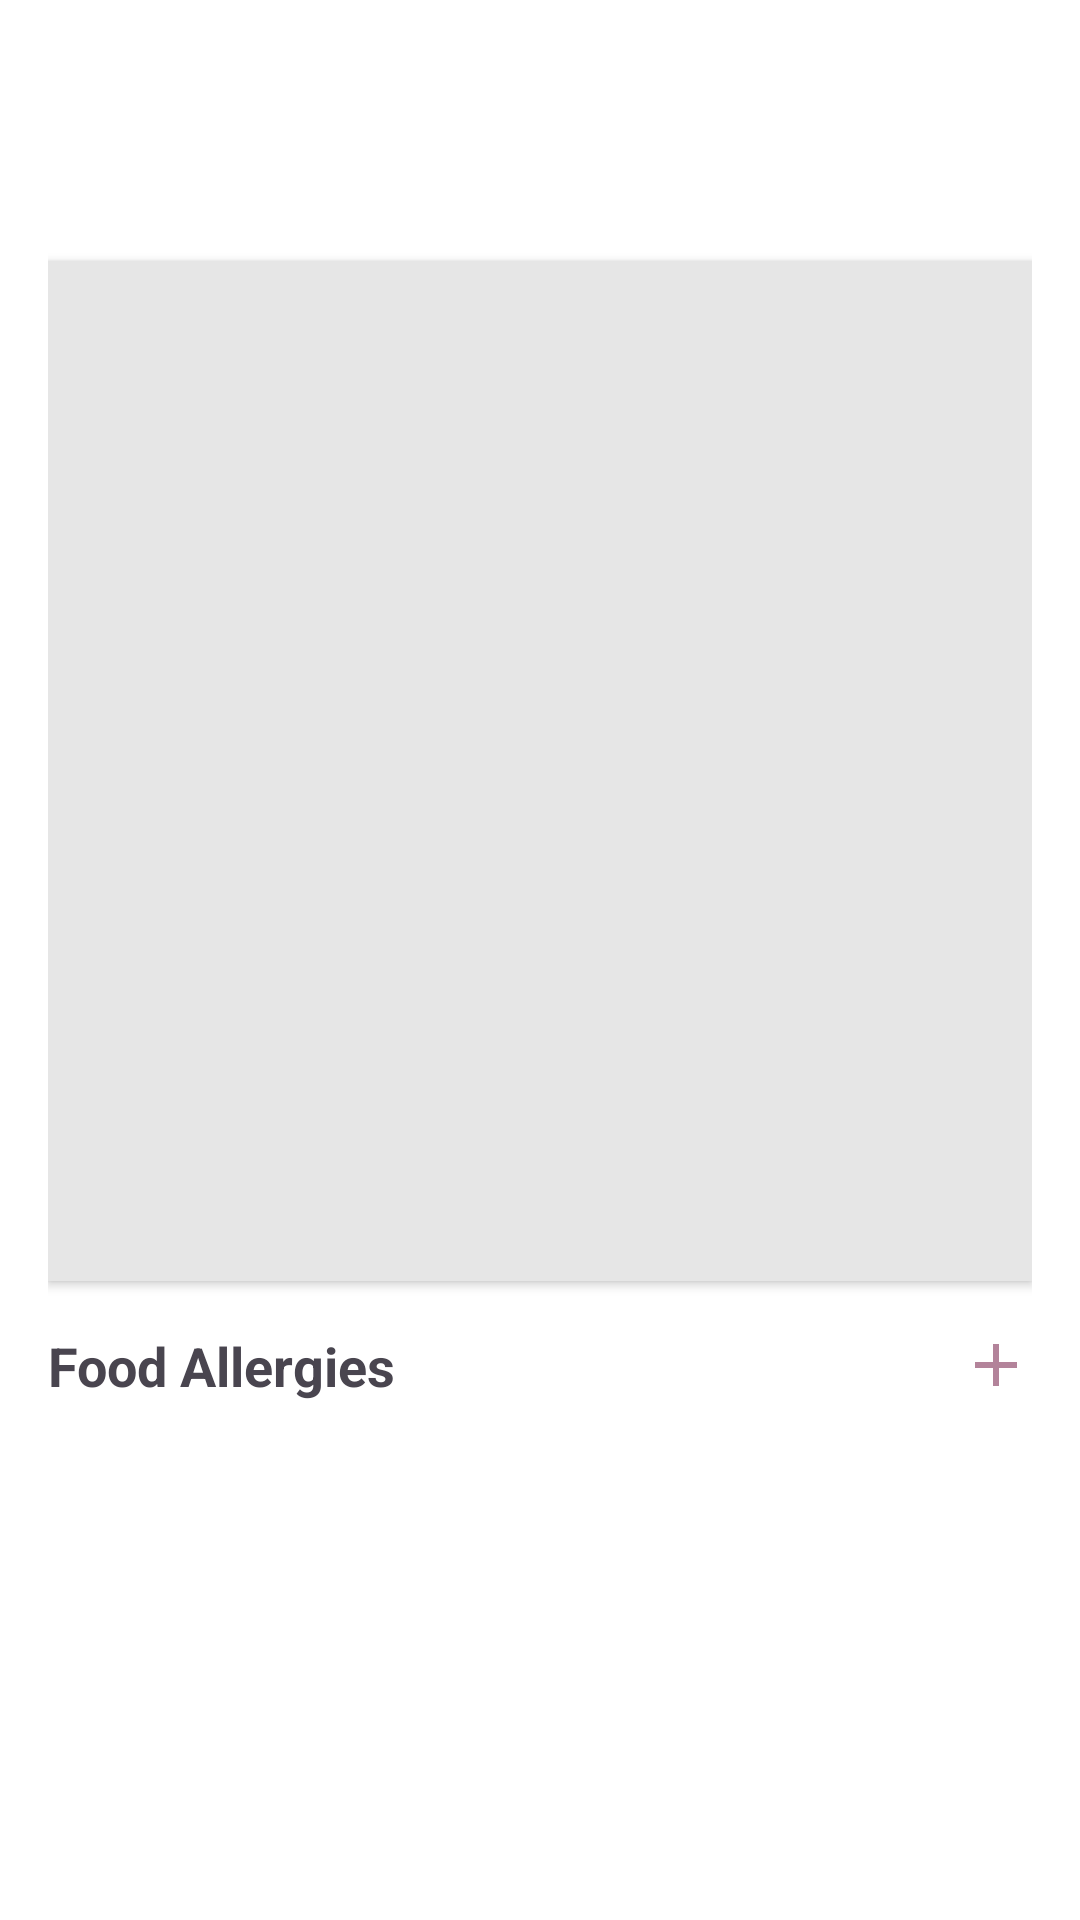

Locate icon controls on the screen. Image size 1080 x 1920, boxes as [x1, y1, x2, y2].
add: [975, 1344, 1017, 1386]
